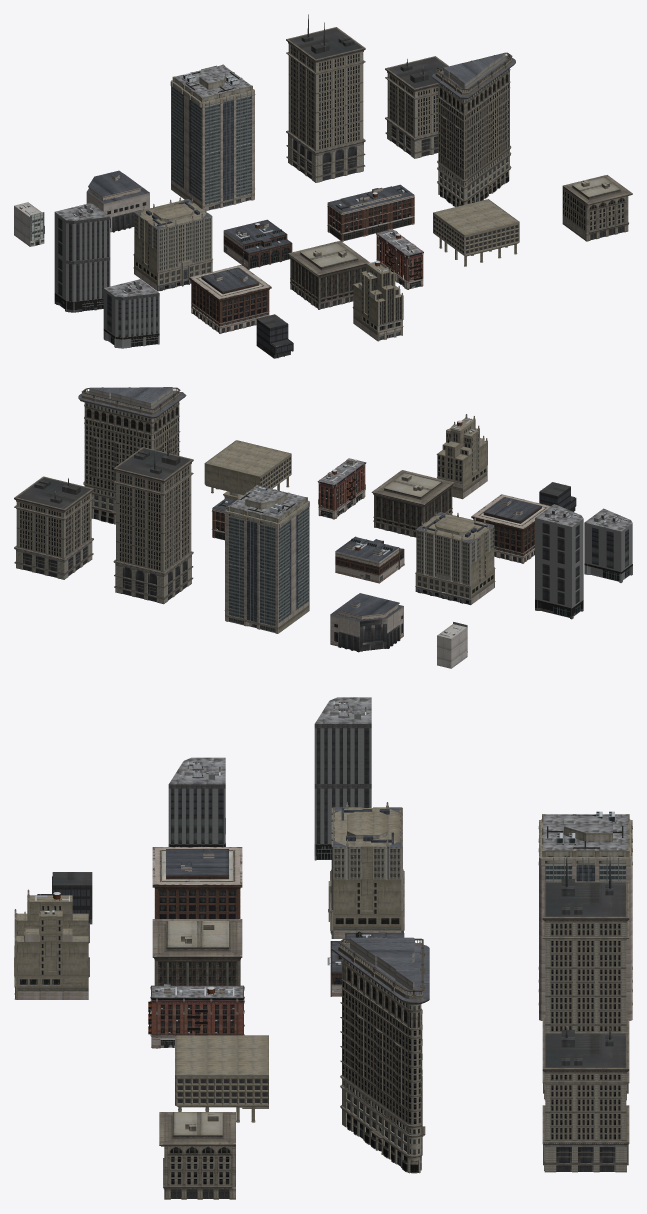
3 views of the same model, one above another, from view 1: azimuth 30°, elevation 25°; view 2: azimuth 150°, elevation 25°; view 3: azimuth 270°, elevation 25° (orthographic). The views are drawn at different scales.
Visible parts, largest first — view 1: Downtown_ModernOffice_5_Downtown_Facade_FLR_4_0, Downtown_Flatiron_1_Downtown_Facade_FLR_3_0, Downtown_ModernOffice_4_Downtown_International_Side_1_0, Downtown_Residential_3, Downtown_ClassicOffice_1_Downtown_Facade_FLR_1_0, Downtown_Residential_4, Downtown_ModernOffice_4_Downtown_Concrete_FLR_1_0, Downtown_ModernOffice_1_B_Downtown_Firstfloortrim_FLR_1_0, Downtown_Residential_2_Downtown_Facade_FLR_3_0, Downtown_ModernOffice_5_B_Downtown_Facade_FLR_4_0, Downtown_Brutal_1_Downtown_Concrete_FLR_1_0, Downtown_BrownstoneOffice_1_Downtown_Facade_FLR_2_0 (+21 smaller); view 2: Downtown_ModernOffice_5_Downtown_Facade_FLR_4_0, Downtown_ModernOffice_4_Downtown_International_Side_1_0, Downtown_Flatiron_1_Downtown_Facade_FLR_3_0, Downtown_ModernOffice_5_B_Downtown_Facade_FLR_4_0, Downtown_ClassicOffice_1_Downtown_Facade_FLR_1_0, Downtown_Residential_4, Downtown_ModernOffice_4_Downtown_Concrete_FLR_1_0, Downtown_Brutal_1_Downtown_Concrete_FLR_1_0, Downtown_ModernOffice_1_B_Downtown_Firstfloortrim_FLR_1_0, Downtown_Residential_3, Downtown_ModernOffice_5_Downtown_Modern_Firstfloor_FLR_1_0, Downtown_Mall_1_Downtown_Facade_FLR_2_0 (+18 smaller); view 3: Downtown_Flatiron_1_Downtown_Facade_FLR_3_0, Downtown_ModernOffice_5_Downtown_Facade_FLR_4_0, Downtown_ModernOffice_5_B_Downtown_Facade_FLR_4_0, Downtown_ArtDeco_1_Downtown_Concrete_FLR_1_0, Downtown_Residential_3, Downtown_Brutal_1_Downtown_Concrete_FLR_1_0, Downtown_Residential_2_Downtown_Facade_FLR_3_0, Downtown_ClassicOffice_1_Downtown_Concrete_FLR_1_0, Downtown_Residential_4, Downtown_BrownstoneOffice_2, Downtown_Flatiron_1_Downtown_Facade_FLR_1_0, Downtown_ModernOffice_4_Downtown_Concrete_FLR_1_0 (+15 smaller).
Boxes of the visible parts, x1,y1,x2,y2 form: Downtown_ModernOffice_5_Downtown_Facade_FLR_4_0: (286, 27, 365, 182); Downtown_Flatiron_1_Downtown_Facade_FLR_3_0: (432, 52, 515, 206); Downtown_ModernOffice_4_Downtown_International_Side_1_0: (171, 86, 251, 205); Downtown_Residential_3: (189, 265, 271, 333); Downtown_ClassicOffice_1_Downtown_Facade_FLR_1_0: (134, 199, 212, 291); Downtown_Residential_4: (288, 240, 369, 309); Downtown_ModernOffice_4_Downtown_Concrete_FLR_1_0: (170, 64, 255, 210); Downtown_ModernOffice_1_B_Downtown_Firstfloortrim_FLR_1_0: (54, 204, 110, 312); Downtown_Residential_2_Downtown_Facade_FLR_3_0: (562, 175, 632, 241); Downtown_ModernOffice_5_B_Downtown_Facade_FLR_4_0: (385, 56, 448, 158); Downtown_Brutal_1_Downtown_Concrete_FLR_1_0: (433, 199, 519, 266); Downtown_BrownstoneOffice_1_Downtown_Facade_FLR_2_0: (327, 184, 414, 241); Downtown_ModernOffice_5_Downtown_Facade_FLR_4_0: (113, 447, 193, 604); Downtown_ModernOffice_4_Downtown_International_Side_1_0: (228, 507, 308, 626); Downtown_Flatiron_1_Downtown_Facade_FLR_3_0: (78, 387, 186, 524); Downtown_ModernOffice_5_B_Downtown_Facade_FLR_4_0: (14, 476, 93, 579); Downtown_ClassicOffice_1_Downtown_Facade_FLR_1_0: (415, 512, 494, 605); Downtown_Residential_4: (371, 470, 454, 537); Downtown_ModernOffice_4_Downtown_Concrete_FLR_1_0: (224, 485, 309, 633); Downtown_Brutal_1_Downtown_Concrete_FLR_1_0: (204, 440, 291, 499); Downtown_ModernOffice_1_B_Downtown_Firstfloortrim_FLR_1_0: (535, 513, 583, 619); Downtown_Residential_3: (471, 494, 550, 563); Downtown_ModernOffice_5_Downtown_Modern_Firstfloor_FLR_1_0: (117, 433, 190, 602); Downtown_Mall_1_Downtown_Facade_FLR_2_0: (335, 536, 404, 583); Downtown_Flatiron_1_Downtown_Facade_FLR_3_0: (331, 938, 429, 1173); Downtown_ModernOffice_5_Downtown_Facade_FLR_4_0: (542, 881, 629, 1100); Downtown_ModernOffice_5_B_Downtown_Facade_FLR_4_0: (542, 1032, 629, 1172); Downtown_ArtDeco_1_Downtown_Concrete_FLR_1_0: (14, 894, 88, 999); Downtown_Residential_3: (152, 847, 242, 918); Downtown_Brutal_1_Downtown_Concrete_FLR_1_0: (175, 1035, 268, 1122); Downtown_Residential_2_Downtown_Facade_FLR_3_0: (159, 1112, 235, 1199); Downtown_ClassicOffice_1_Downtown_Concrete_FLR_1_0: (333, 807, 401, 938); Downtown_Residential_4: (152, 919, 242, 985); Downtown_BrownstoneOffice_2: (148, 984, 244, 1048); Downtown_Flatiron_1_Downtown_Facade_FLR_1_0: (331, 937, 429, 1173); Downtown_ModernOffice_4_Downtown_Concrete_FLR_1_0: (538, 814, 632, 1020).
Bounding box in the file's own units: 359 × 103 × 255.
Materials: 16 (16 with a texture image).
